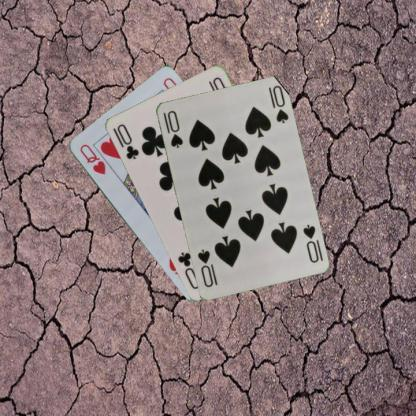10c: (114, 121, 140, 160)
10s: (160, 108, 184, 150), (300, 221, 320, 264)
Qh: (77, 141, 107, 176)
